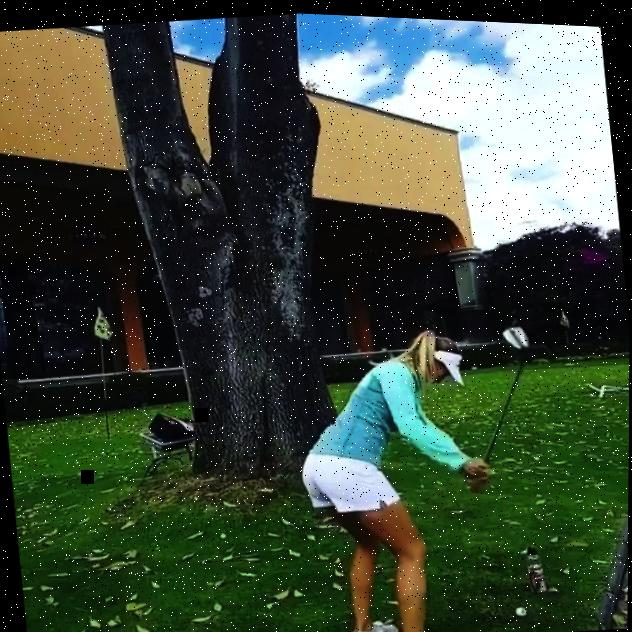ClubHead: (504, 320, 530, 345)
GolfBall: (516, 601, 529, 613)
